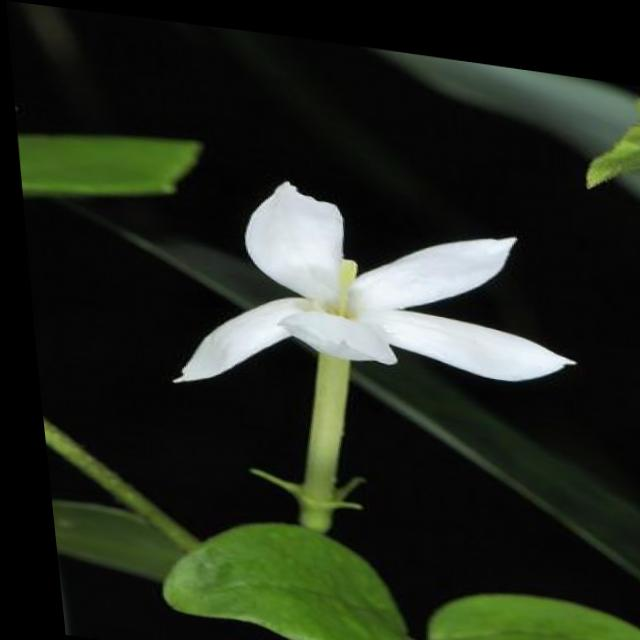Flower: (148, 148, 585, 431)
